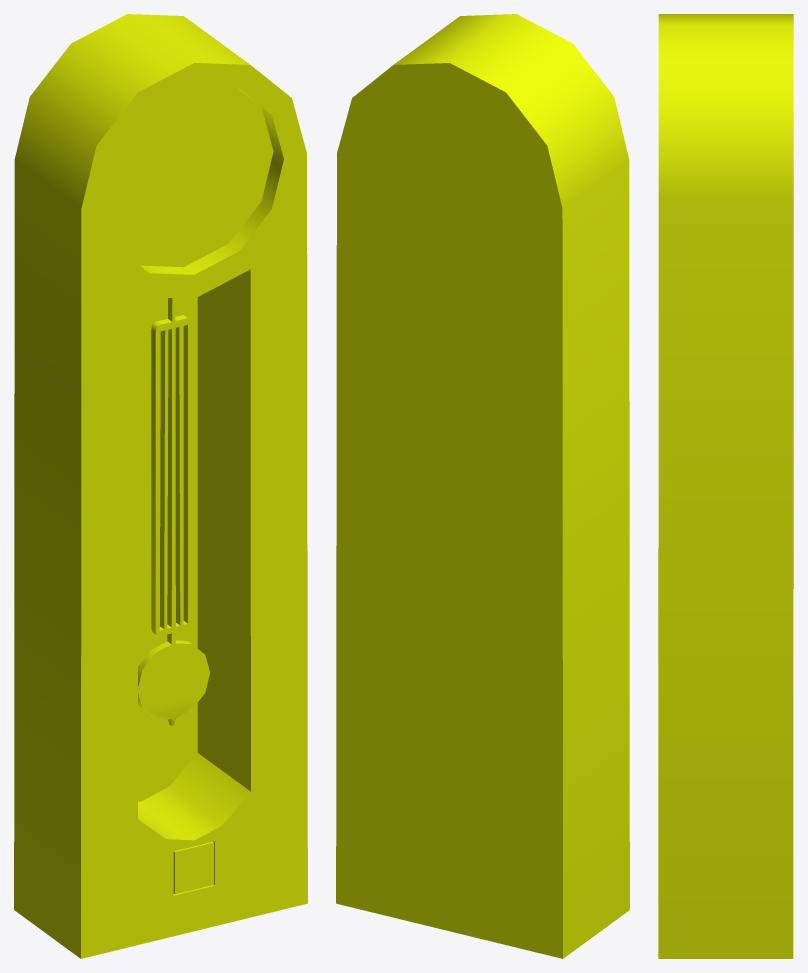
The model's file is Clock_1.FBX.
3 views of the same model, side by side, from view 1: azimuth 30°, elevation 25°; view 2: azimuth 150°, elevation 25°; view 3: azimuth 270°, elevation 25° (orthographic).
Visible parts, largest first — view 1: Cylinder003; view 2: Cylinder003; view 3: Cylinder003.
Boxes of the visible parts, x1,y1,x2,y2 form: Cylinder003: (14, 14, 307, 958); Cylinder003: (336, 14, 629, 958); Cylinder003: (658, 14, 793, 958).
Size of the model in its own units: 0.7169 by 2.62 by 0.3658.
